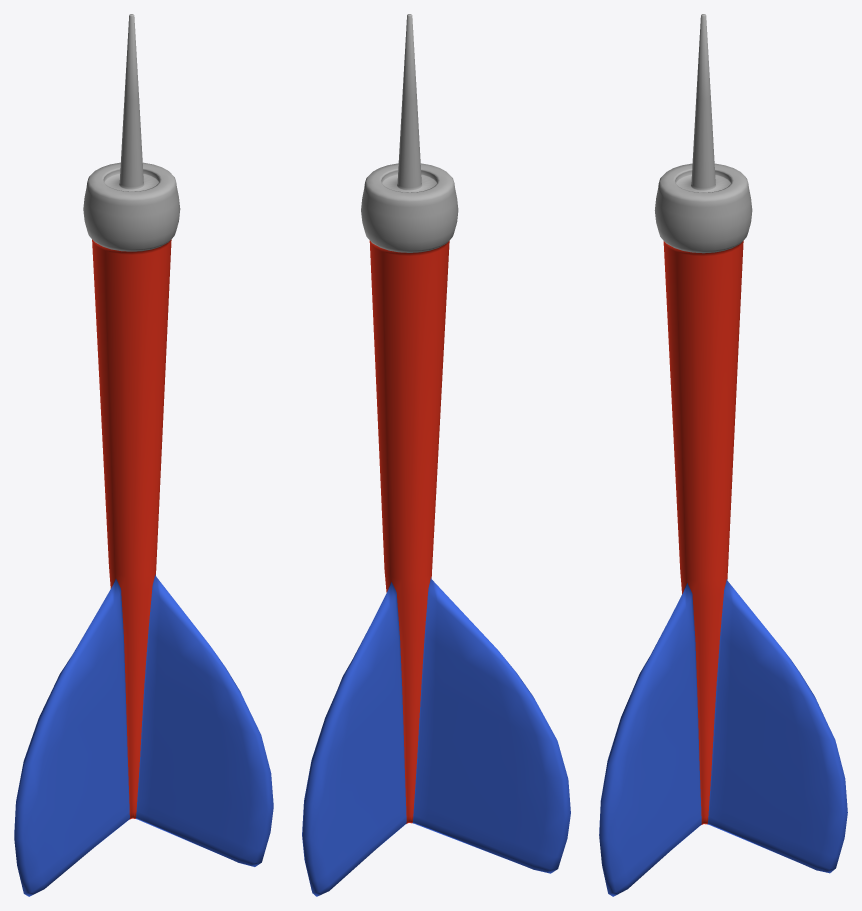
File: dardo.fbx
3 views of the same model, side by side, from view 1: azimuth 30°, elevation 25°; view 2: azimuth 150°, elevation 25°; view 3: azimuth 270°, elevation 25° (orthographic).
Parts seen in each view (by area): view 1: Cylinder; view 2: Cylinder; view 3: Cylinder.
Part boxes in pixels (x1,y1,x2,y2): Cylinder: (14, 14, 273, 896); Cylinder: (302, 14, 570, 896); Cylinder: (599, 14, 847, 896).
Bounding box in the file's own units: 10.69 × 37.31 × 9.96.
